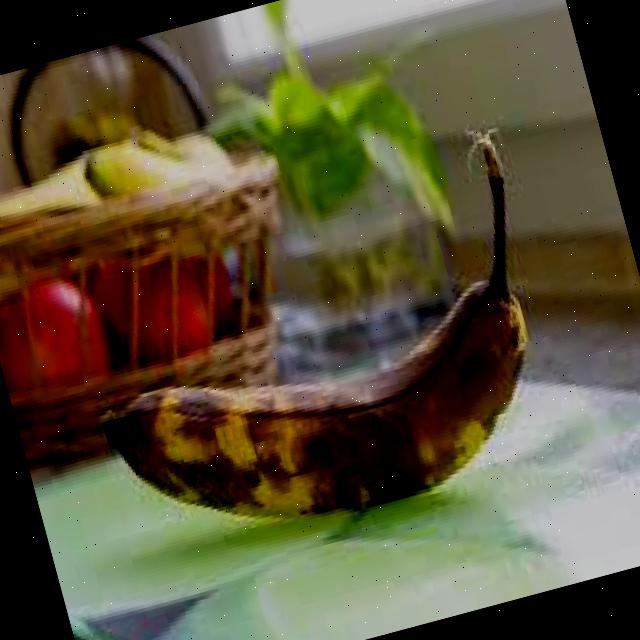Rotten: (40, 188, 602, 604)
